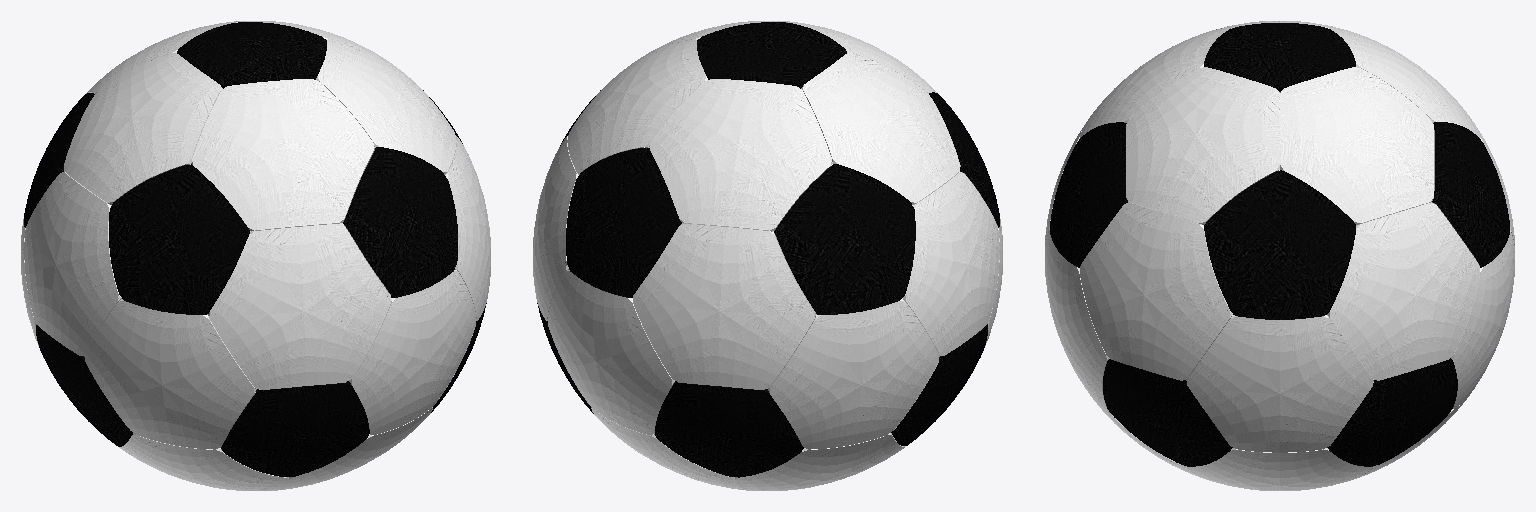
The picture shows the model from 3 angles: view 1: azimuth 30°, elevation 25°; view 2: azimuth 150°, elevation 25°; view 3: azimuth 270°, elevation 25°; orthographic projection.
Parts seen in each view (by area): view 1: Icosphere_Icosphere.006; view 2: Icosphere_Icosphere.006; view 3: Icosphere_Icosphere.006.
Boxes of the visible parts, box(x1,y1,x2,y2) form: Icosphere_Icosphere.006: box(21, 21, 490, 490); Icosphere_Icosphere.006: box(533, 21, 1002, 490); Icosphere_Icosphere.006: box(1045, 21, 1514, 490).
Bounding box in the file's own units: 1.47 × 1.47 × 1.47.
Materials: 2 (2 with a texture image).